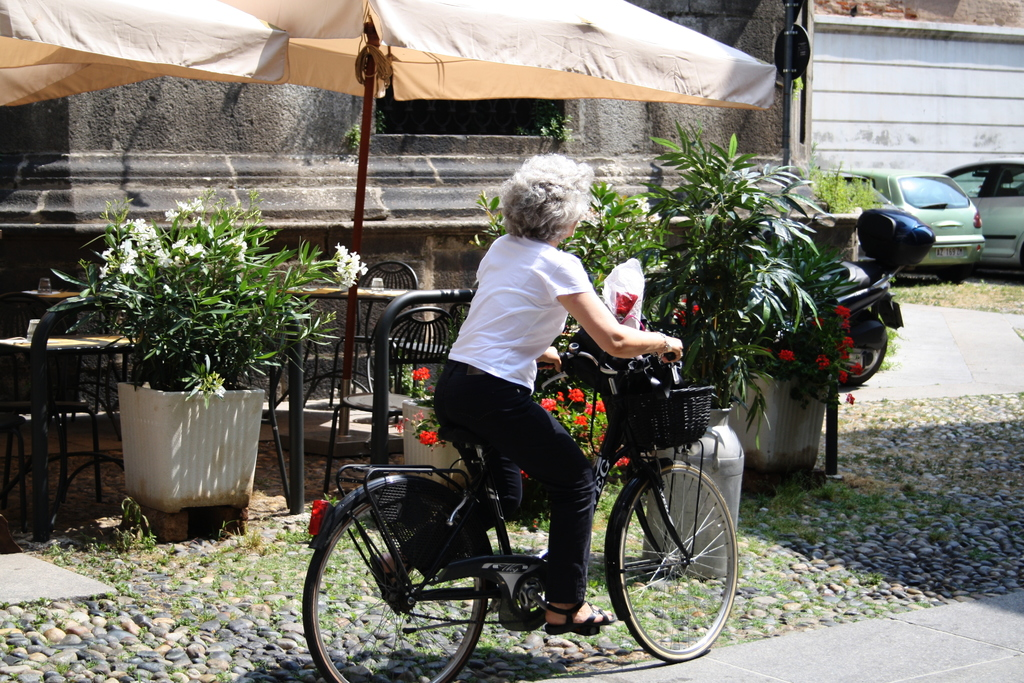Bike_away: (268, 370, 744, 683)
